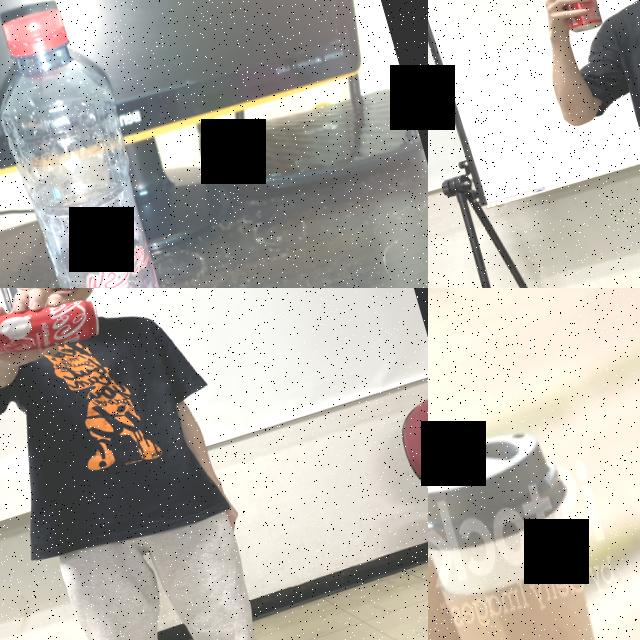bottle: (0, 0, 213, 288)
can: (0, 288, 107, 373), (551, 0, 604, 35)
cup: (428, 422, 629, 640), (428, 415, 522, 640)
